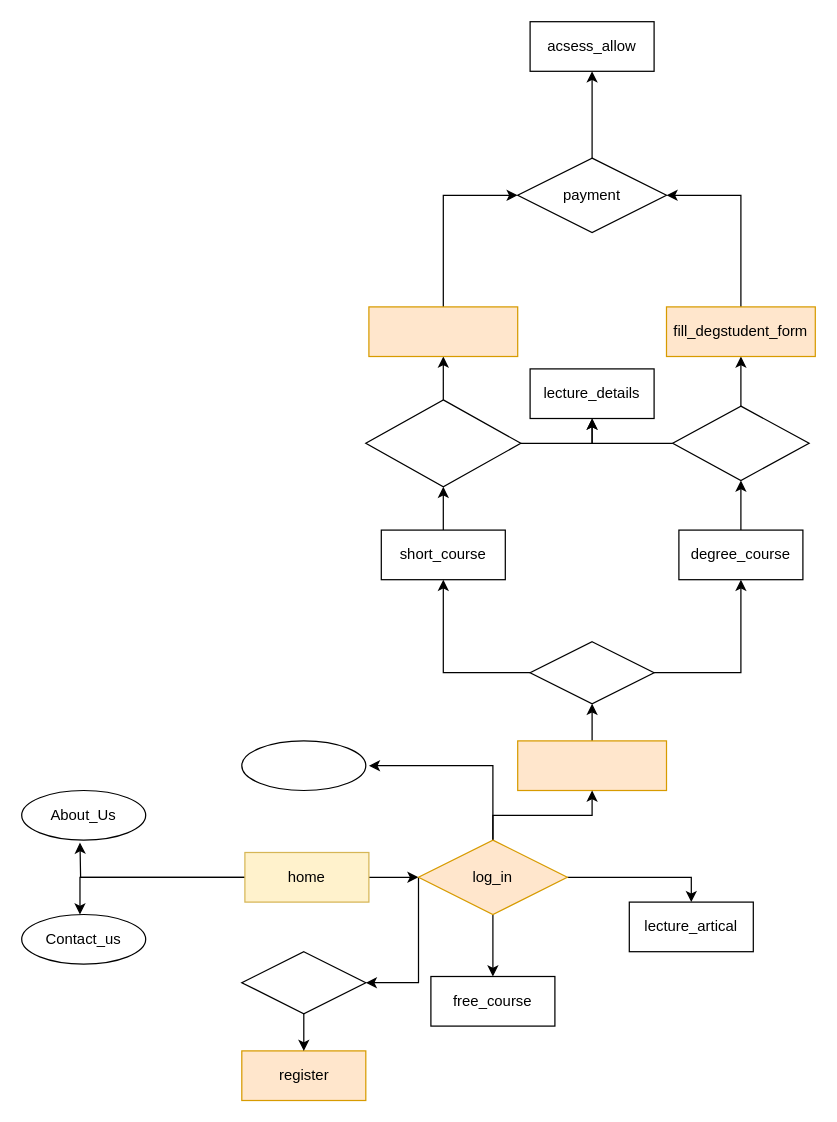
This 837x1122 diagram has some shape labels left out. The shapes that lost their labels are listed below. From the top down, each one's box as (x1, y1, x2, y2) in pixels, then its label:
(368, 306, 518, 356): fill_SCstudent_form
(365, 399, 521, 487): select_shortcourse
(671, 405, 809, 480): select_degree
(529, 640, 654, 704): acsess
(241, 740, 366, 790): user_profile
(516, 740, 666, 790): fill_payment_details
(241, 950, 366, 1014): if_not
